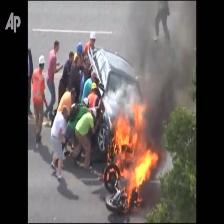fire: (107, 101, 159, 206)
